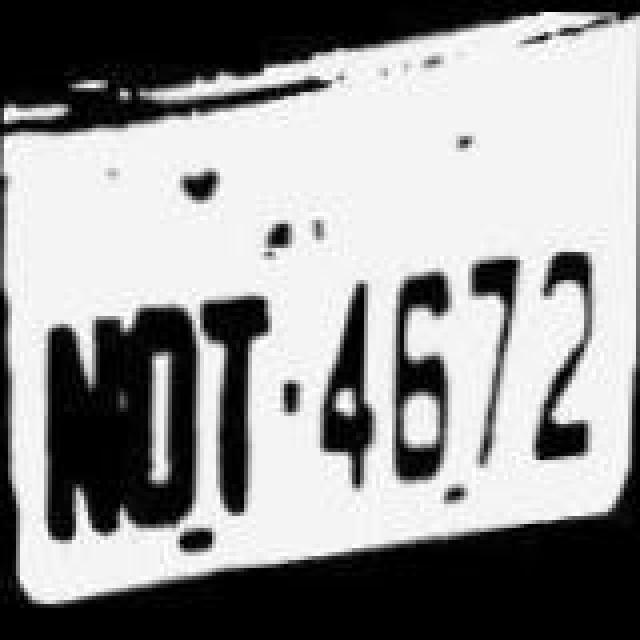2: (530, 220, 610, 480)
4: (312, 256, 384, 512)
6: (382, 240, 462, 492)
7: (456, 232, 532, 492)
N: (40, 284, 128, 544)
O: (116, 286, 204, 538)
T: (192, 274, 280, 526)
